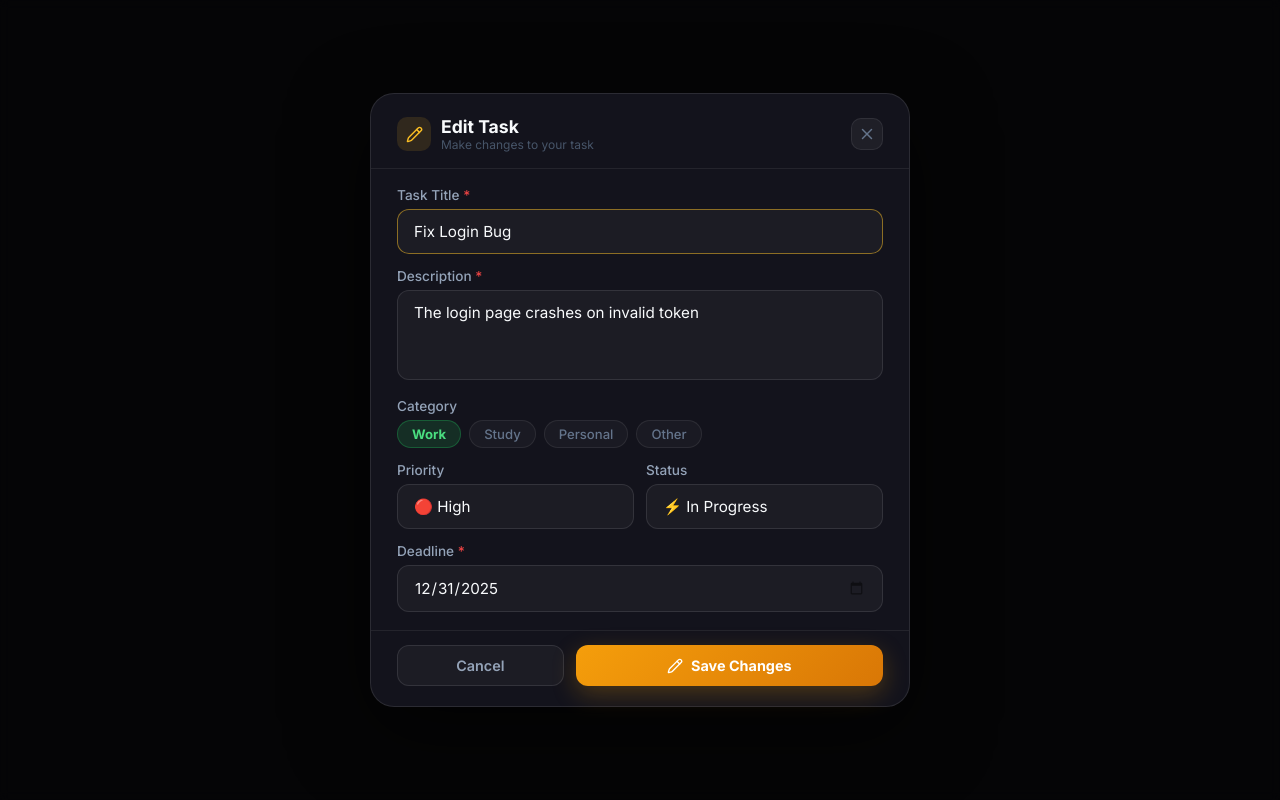
Test: EditTaskModal › shows "Task title is required" when title is cleared
The width and height of the screenshot is (1280, 800).
Clear the field showing "Fix Login Bug" at (640, 232), box [397,209,883,254]
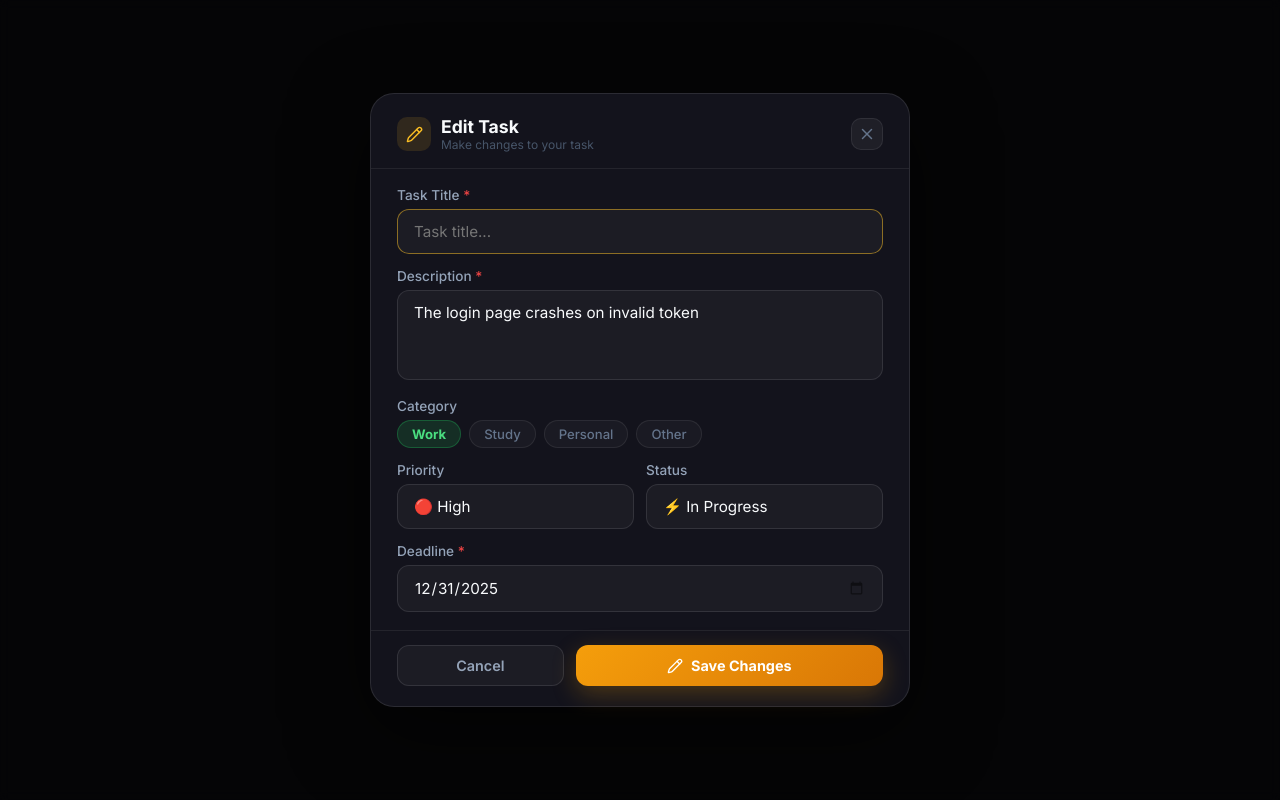
Click the button "Save Changes" at (729, 666), box [576,645,883,686]
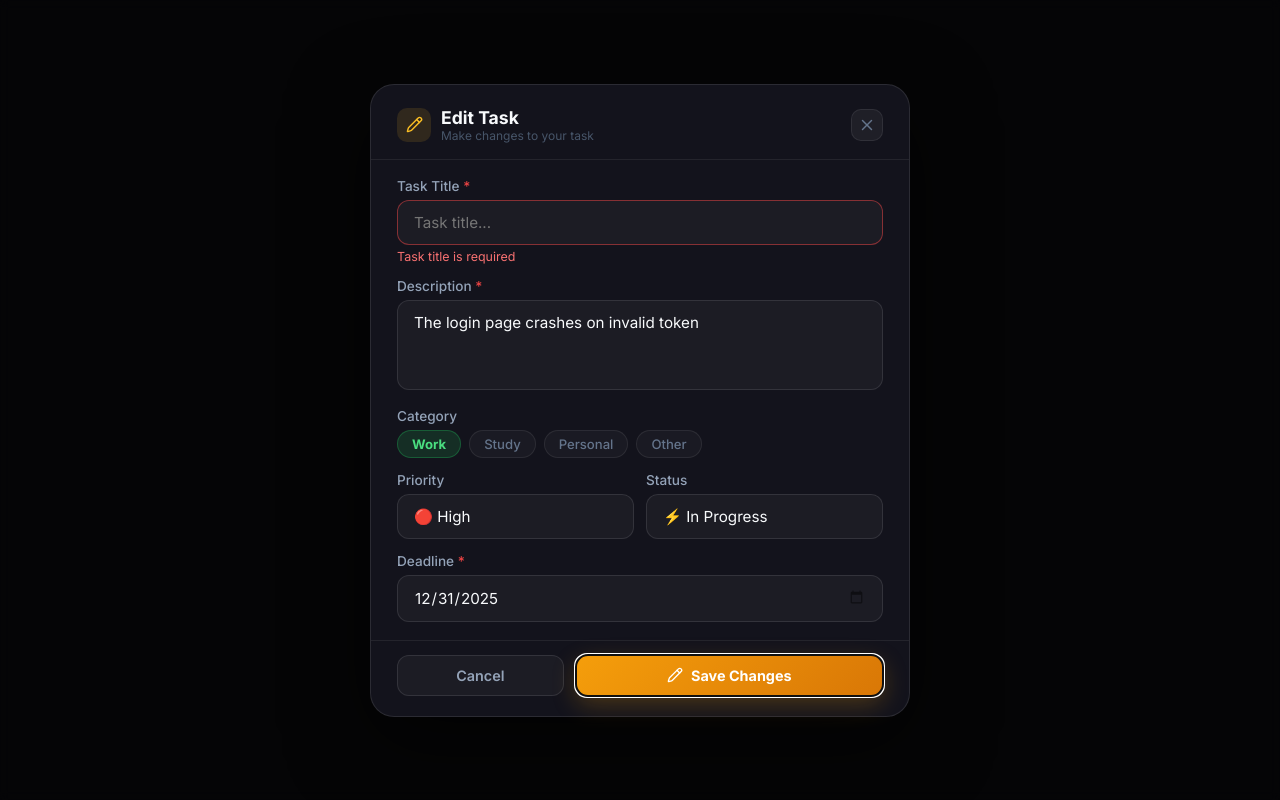
Result: the text "Task title is required" is shown at [397,248,515,264]
